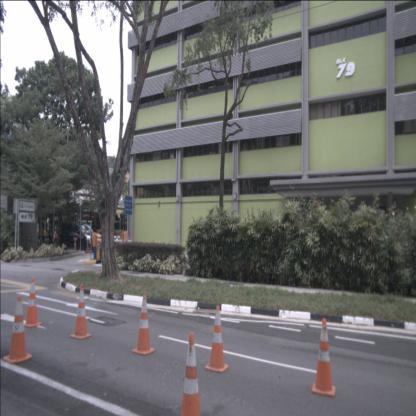cone: (3, 294, 32, 364), (311, 319, 336, 397), (180, 332, 201, 416), (205, 305, 229, 373), (132, 295, 155, 355), (70, 285, 91, 339), (23, 276, 42, 327)
